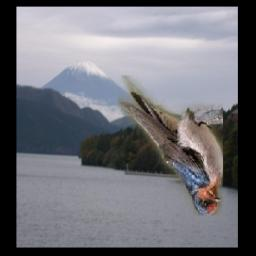Swallow: (118, 76, 223, 216)
